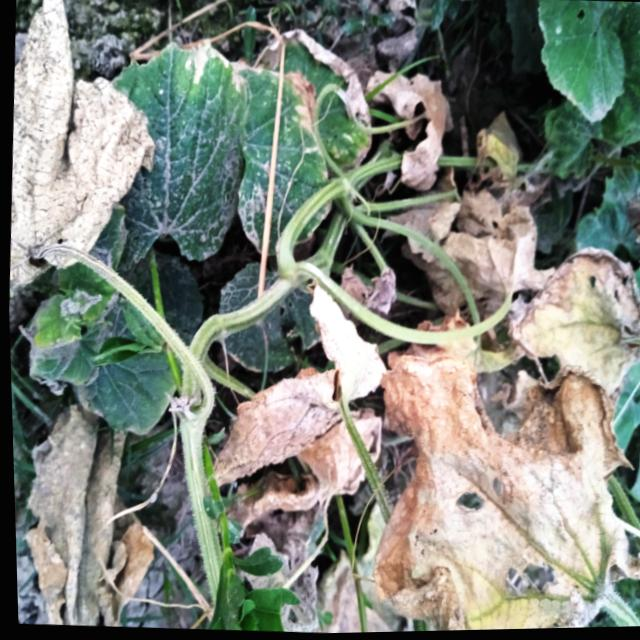Bacterial-Wilt: (365, 343, 640, 633), (8, 0, 153, 290), (210, 278, 384, 492)
